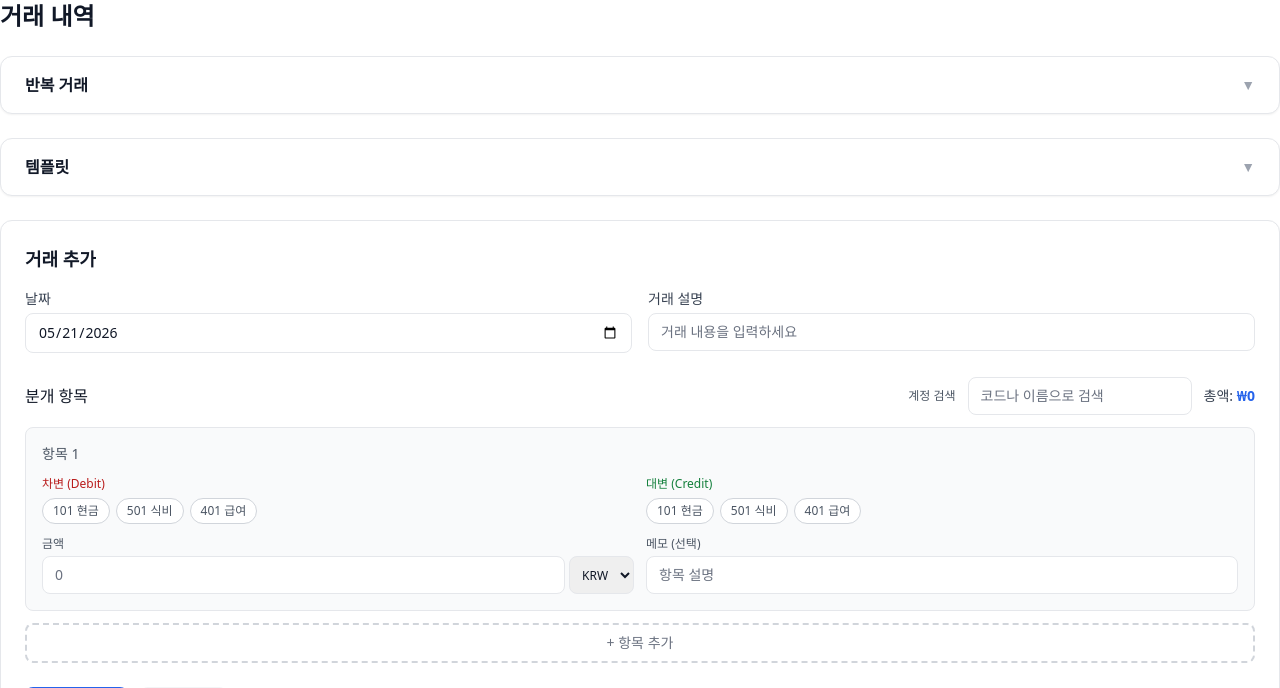
TransactionsPage › 항목 추가 및 삭제가 동작한다
Check: the text "항목 1" is shown, box [42,444,79,464]
Click the button "+ 항목 추가" at (640, 643), box [25,623,1255,663]
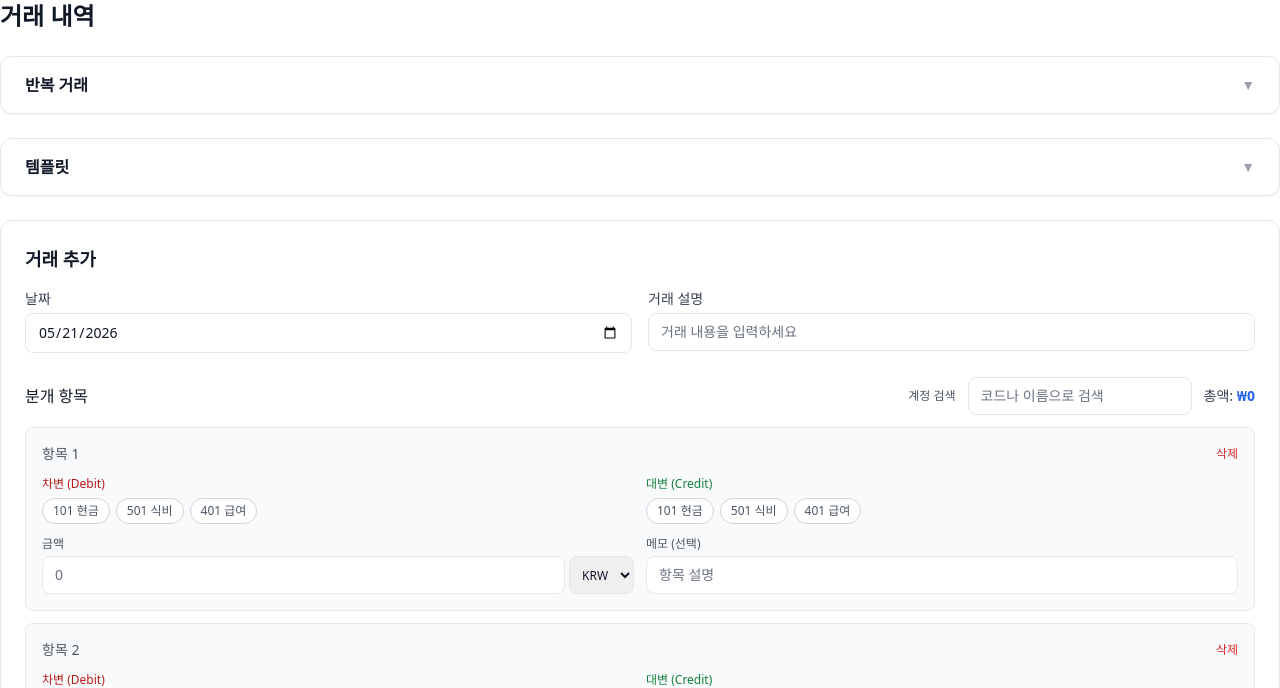
Check: the text "항목 2" is shown, box [42,640,79,660]
Check: the text "항목 1" is shown 2 times, box [42,444,79,464]; [42,640,79,660]
Check: the 2nd button "삭제" is shown
Click the 2nd button "삭제" at (1227, 650), box [1216,642,1238,658]
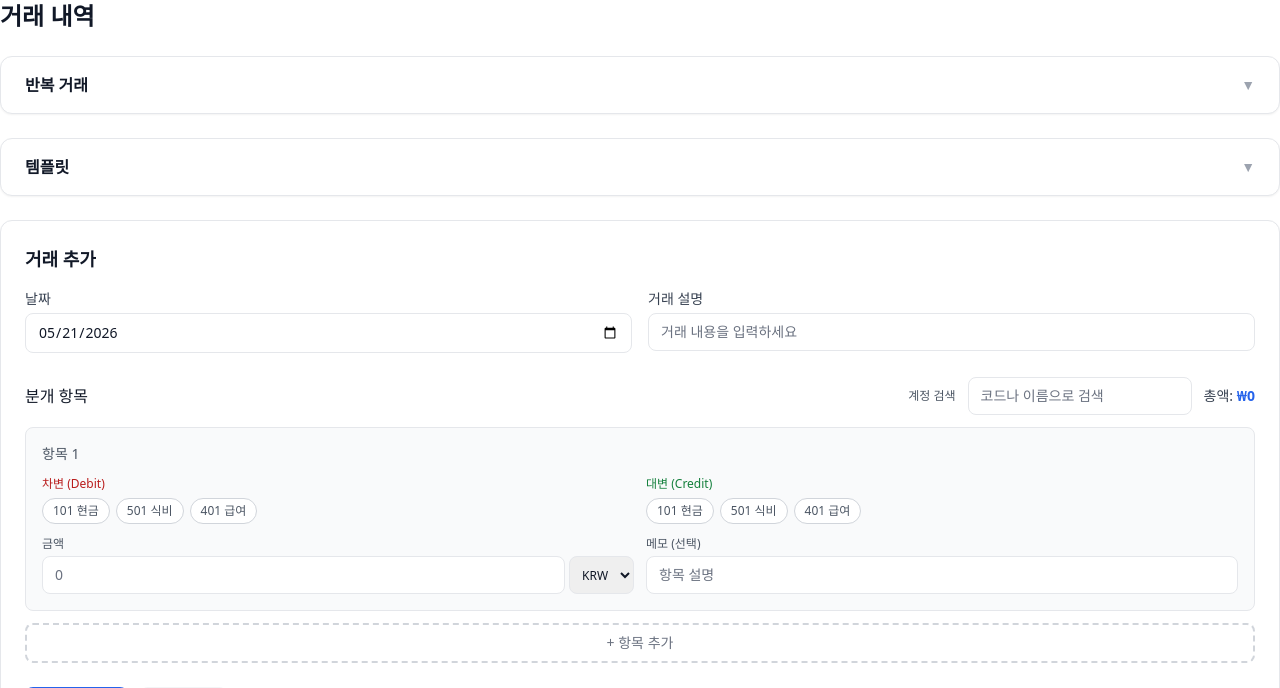
Check: the text "항목 1" is shown once, box [42,444,79,464]
Check: the text "항목 2" is gone
